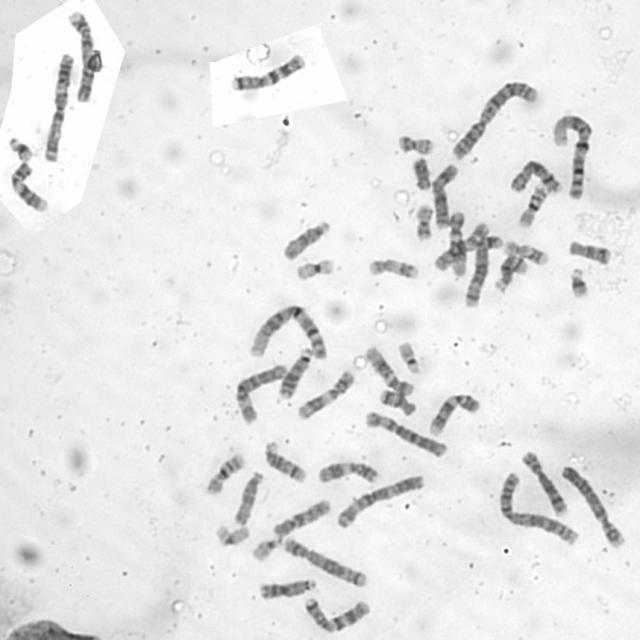A1: (246, 300, 328, 361), (548, 110, 594, 200)
A2: (448, 77, 540, 161), (494, 468, 580, 547)
A3: (334, 471, 428, 531), (42, 51, 76, 164)
B4: (557, 460, 628, 550), (66, 7, 98, 104)
B5: (280, 533, 370, 589), (462, 231, 504, 308)
C10: (431, 218, 492, 272), (269, 494, 333, 538)
C11: (294, 366, 357, 421), (314, 458, 381, 486)
C12: (362, 342, 416, 397), (447, 205, 470, 277)
C6: (362, 408, 449, 459), (233, 361, 290, 425)
C7: (227, 48, 308, 92), (301, 593, 372, 635)
C8: (518, 446, 570, 516), (507, 155, 565, 195)
C9: (426, 389, 483, 438), (6, 156, 51, 214)
D13: (274, 343, 315, 400), (257, 574, 319, 600)
D14: (261, 437, 309, 484), (490, 252, 529, 294)
D15: (279, 215, 333, 262), (230, 467, 266, 526)
E16: (202, 451, 246, 495), (515, 182, 549, 229)
E17: (366, 254, 422, 281), (500, 237, 550, 267)
E18: (565, 236, 613, 266), (376, 386, 418, 417)
F19: (292, 254, 336, 282), (211, 520, 251, 548)
F20: (394, 131, 436, 156), (412, 200, 435, 242)
G21: (567, 263, 591, 300), (5, 133, 35, 162)
G22: (248, 532, 285, 563), (394, 338, 423, 376)
X: (429, 160, 460, 230)
Y: (409, 152, 434, 190)
